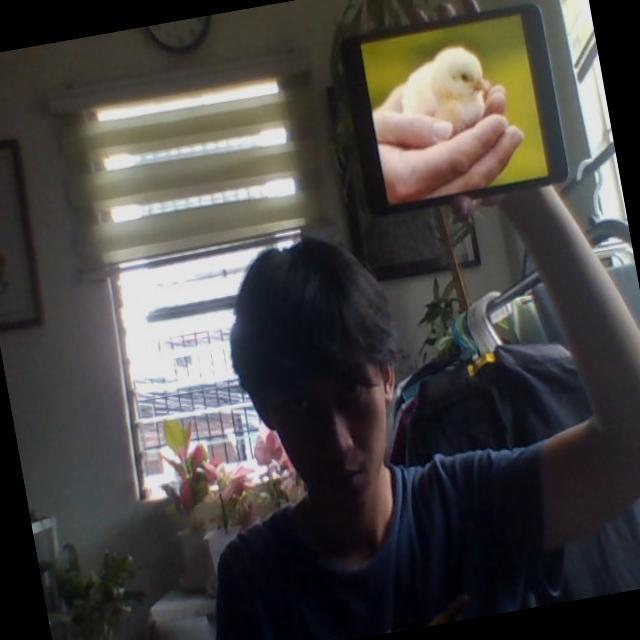Healthy: (391, 41, 494, 142)
